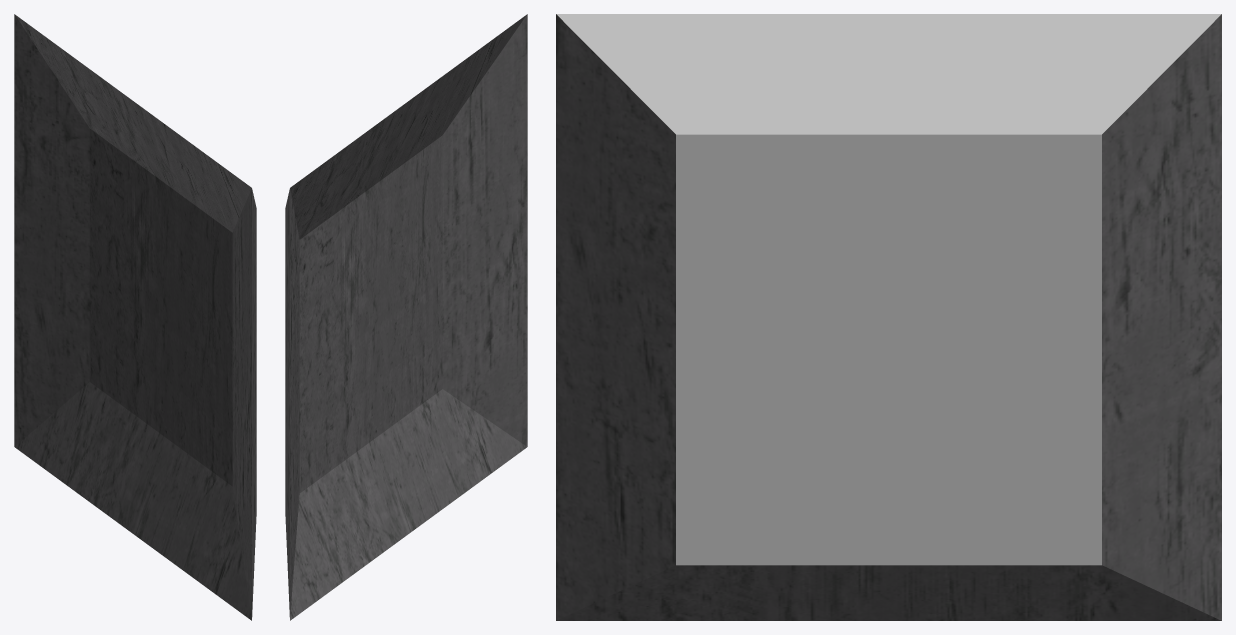
Rendered from p6_fuse_box_lid_a_lod2.glb.
3 renders of one model, left to right at view 1: azimuth 30°, elevation 25°; view 2: azimuth 150°, elevation 25°; view 3: azimuth 270°, elevation 25°, orthographic. The views are drawn at different scales.
Parts seen in each view (by area): view 1: surf0; view 2: surf0; view 3: surf1, surf0.
Boxes of the visible parts, bbox=[...] form: surf0: bbox=[14, 14, 256, 620]; surf0: bbox=[285, 14, 527, 620]; surf1: bbox=[556, 14, 1221, 565]; surf0: bbox=[556, 14, 1221, 620].
Bounding box in the file's own units: 2.76 × 24.14 × 24.
